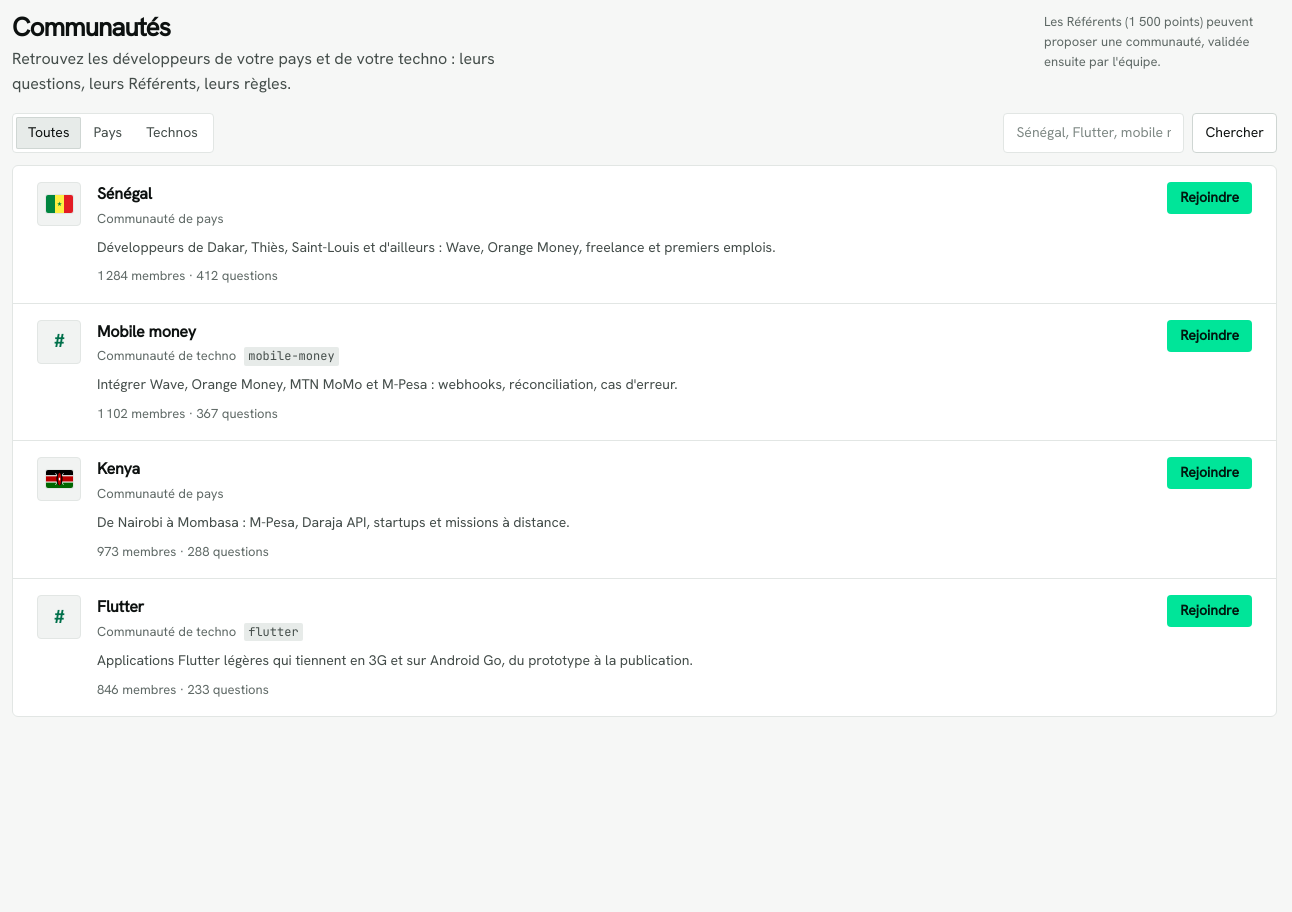
Scenario: Communautés (COM-1) › envoie vers la connexion quand on rejoint sans compte
Click the button with aria-label "Rejoindre la communauté Kenya" at (1210, 473), box [1167,457,1252,489]
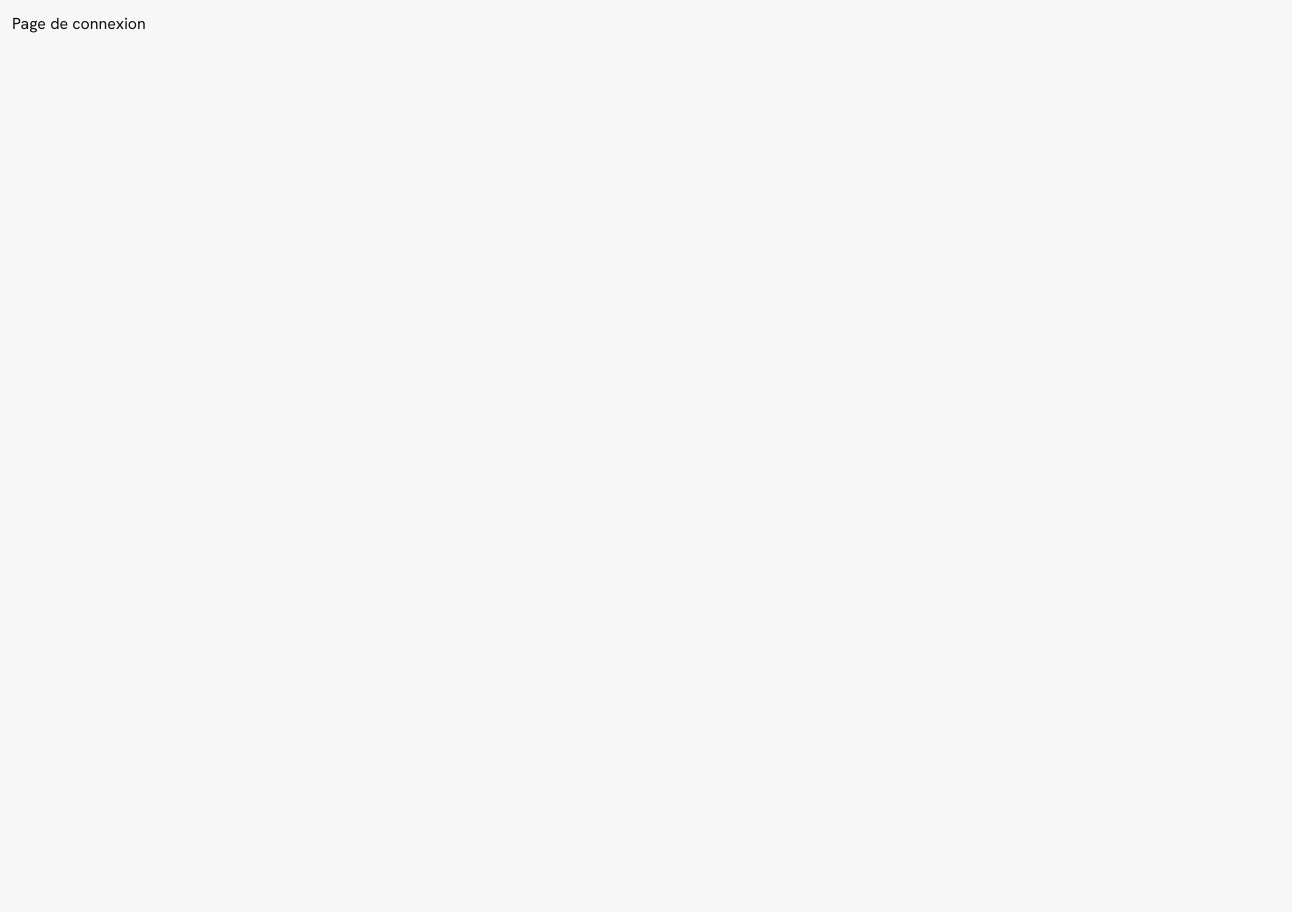
Result: the text "Page de connexion" is shown at [12,13,146,34]
